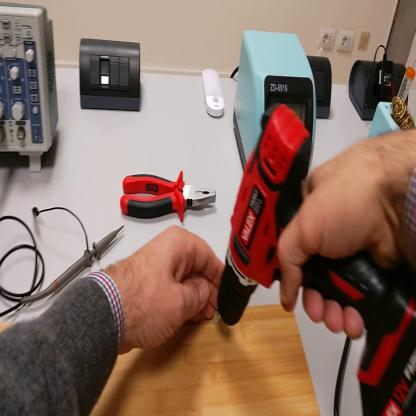electric screwdriver: (221, 105, 416, 416)
hand: (275, 135, 405, 337), (119, 225, 225, 355)
oscilloscope: (1, 1, 60, 174)
oscilloscope probe tip: (21, 222, 128, 306)
pliers: (121, 169, 217, 224)
socket: (349, 51, 398, 123), (306, 58, 336, 119)
welder base: (369, 65, 416, 139)
welder station: (234, 29, 318, 174)
working area: (4, 301, 322, 414)
